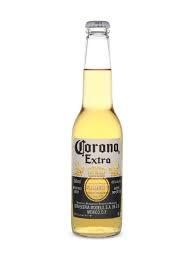Glass bottle: (57, 13, 138, 249)
